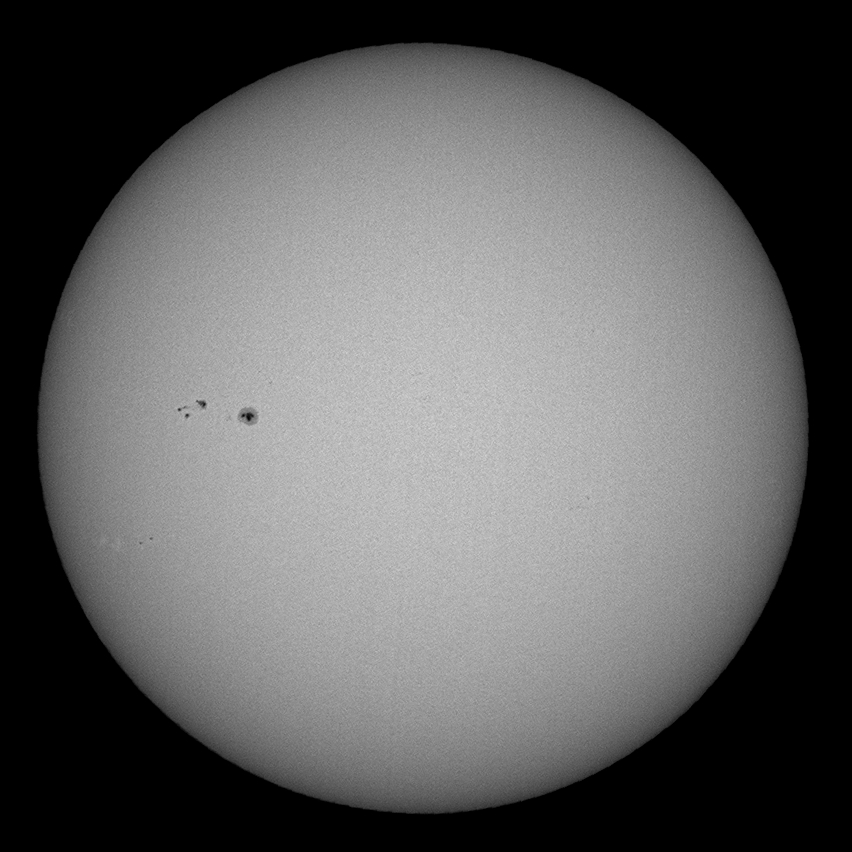sunspot: (176, 396, 211, 420), (235, 403, 262, 429)
